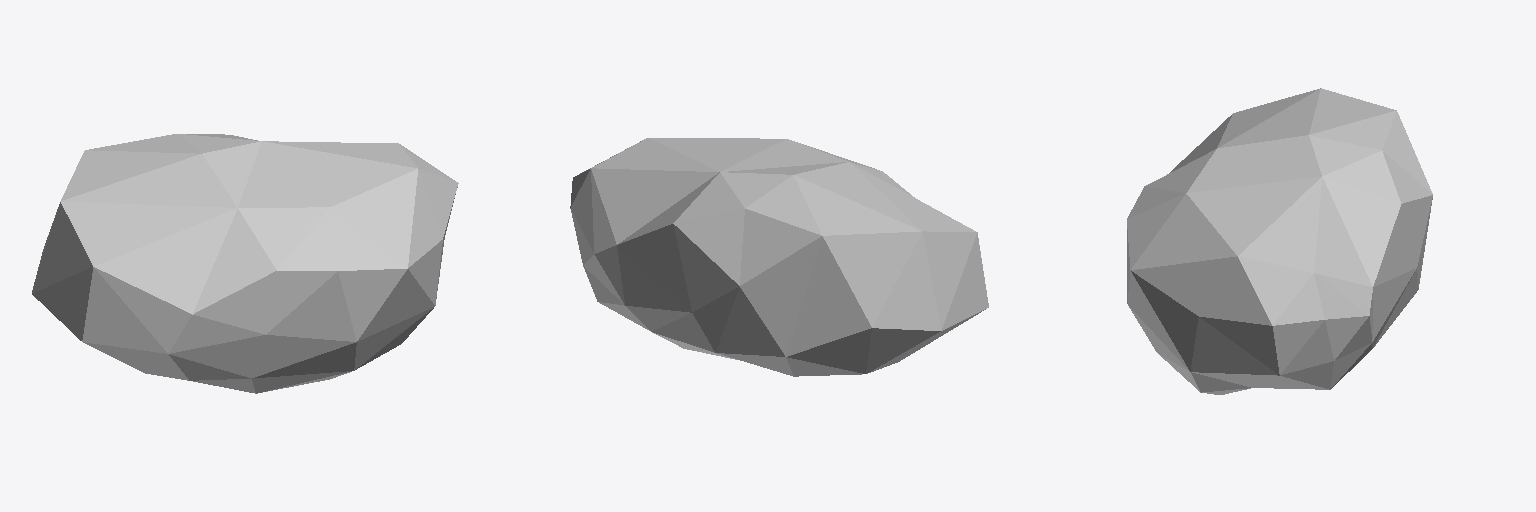
Rendered from rock3.obj.
3 views of the same model, side by side, from view 1: azimuth 30°, elevation 25°; view 2: azimuth 150°, elevation 25°; view 3: azimuth 270°, elevation 25° (orthographic).
Visible parts, largest first — view 1: Cube; view 2: Cube; view 3: Cube.
Part boxes in pixels (left/top/right/bottom): Cube: left=32, top=134, right=458, bottom=393; Cube: left=570, top=138, right=988, bottom=376; Cube: left=1127, top=88, right=1432, bottom=394.
Size of the model in its own units: 7.12 by 3.47 by 4.75.